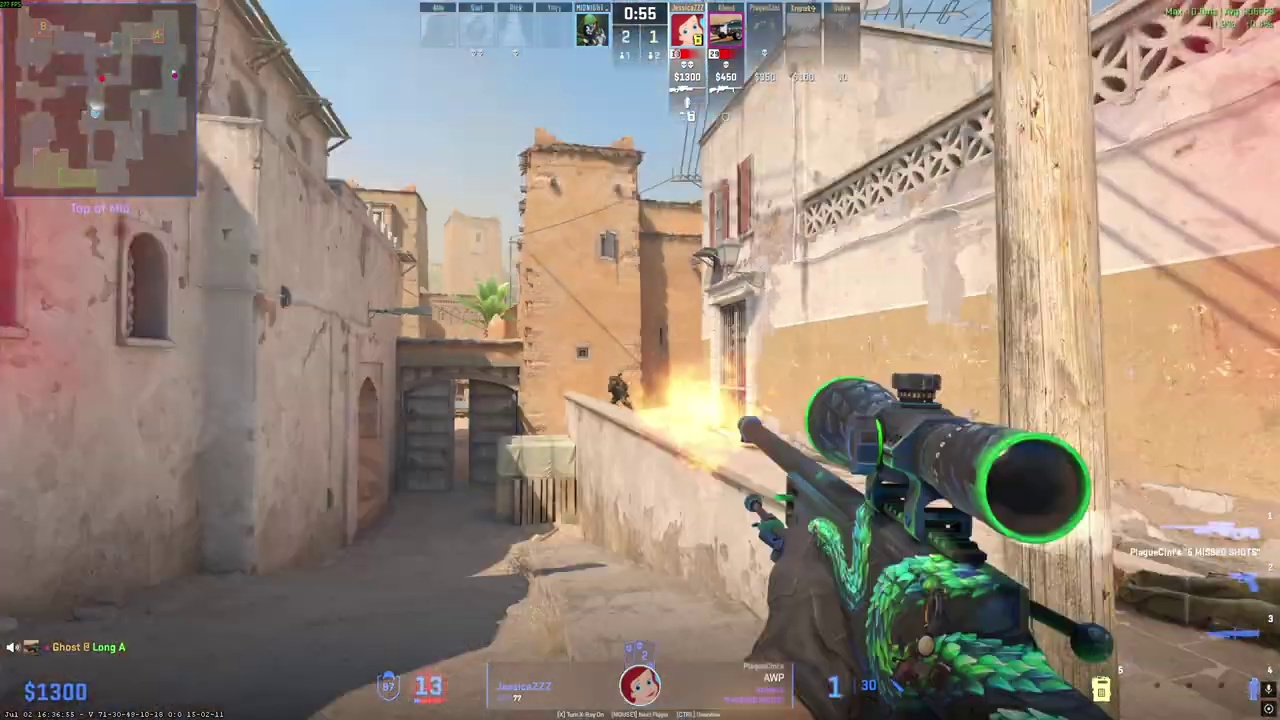CT: (608, 376, 631, 407)
